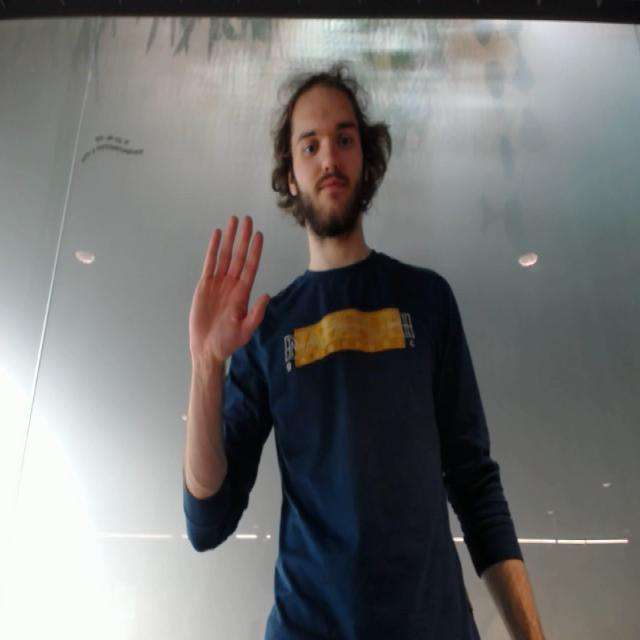backward: (188, 210, 274, 370)
